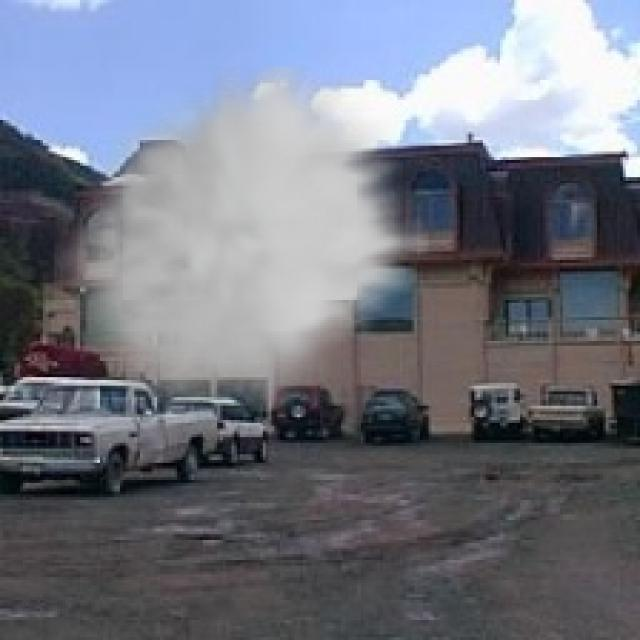smoke: (54, 66, 429, 411)
